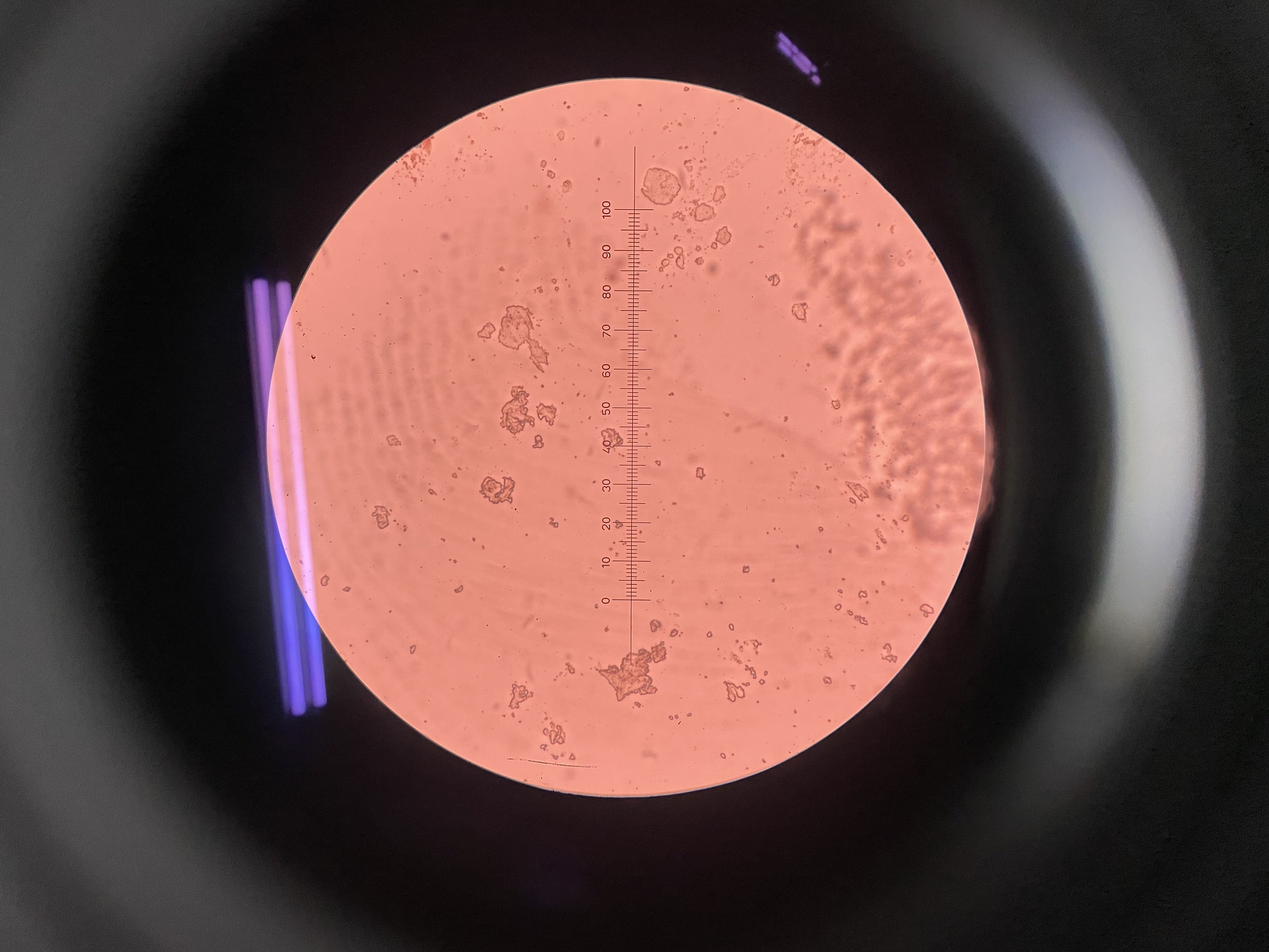microplastic: (798, 185, 1002, 541), (595, 641, 679, 708), (499, 306, 551, 375), (499, 385, 534, 436), (641, 161, 679, 207), (476, 478, 517, 506), (536, 719, 571, 748), (657, 246, 689, 273), (721, 675, 747, 706), (845, 481, 871, 506), (509, 685, 534, 709), (369, 507, 394, 529), (600, 428, 625, 450), (691, 204, 716, 224), (538, 402, 557, 428), (791, 301, 810, 323), (474, 320, 496, 339), (712, 226, 732, 245), (709, 184, 726, 201), (766, 274, 785, 289), (388, 431, 404, 447), (921, 601, 935, 614), (532, 438, 547, 450), (322, 570, 331, 586), (697, 467, 708, 480), (537, 157, 550, 168), (562, 180, 571, 193), (833, 398, 841, 409)
